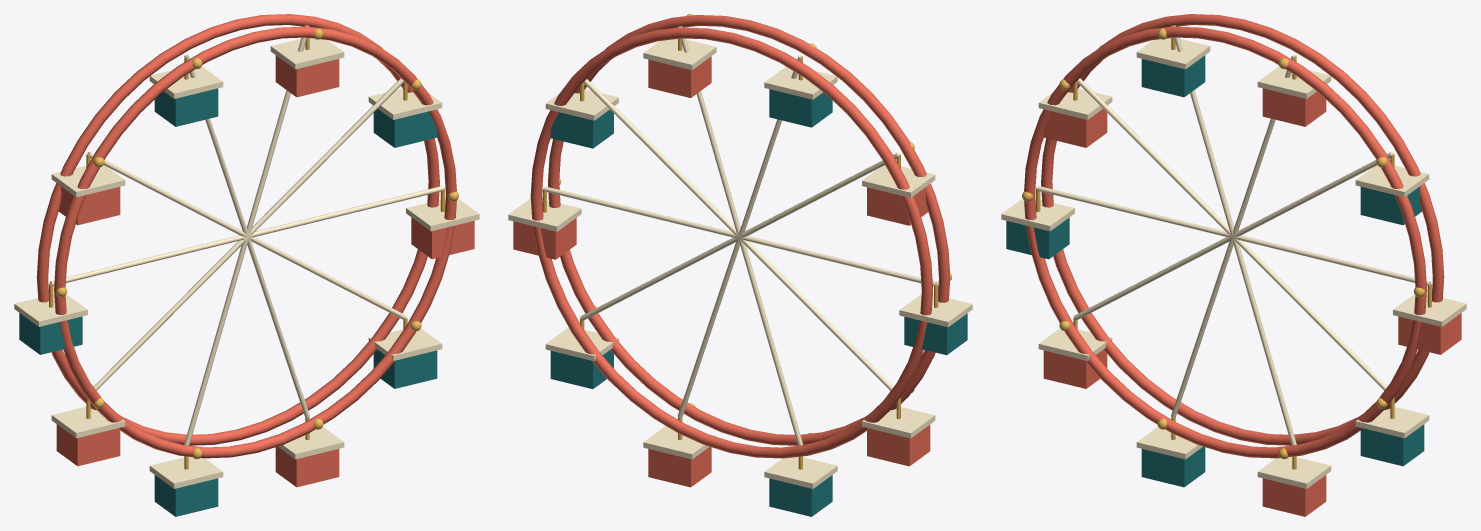
File: ferris_rotor.glb
3 renders of one model, left to right at view 1: azimuth 30°, elevation 25°; view 2: azimuth 150°, elevation 25°; view 3: azimuth 330°, elevation 25°, orthographic.
Visible parts, largest first — view 1: ferris_rotor, Cabin_7, Cabin_2, Cabin_6, Cabin_8, Cabin_1, Cabin_5, Cabin_0, Cabin_3, Cabin_9, Cabin_4; view 2: ferris_rotor, Cabin_7, Cabin_2, Cabin_6, Cabin_8, Cabin_5, Cabin_0, Cabin_1, Cabin_3, Cabin_9, Cabin_4; view 3: ferris_rotor, Cabin_8, Cabin_3, Cabin_9, Cabin_7, Cabin_4, Cabin_0, Cabin_5, Cabin_2, Cabin_6, Cabin_1.
Boxes of the visible parts, x1,y1,x2,y2 form: ferris_rotor: (36, 14, 458, 459); Cabin_7: (149, 456, 223, 516); Cabin_2: (270, 25, 344, 97); Cabin_6: (51, 397, 125, 466); Cabin_8: (270, 417, 344, 487); Cabin_1: (368, 82, 442, 147); Cabin_5: (14, 283, 87, 354); Cabin_0: (406, 187, 479, 259); Cabin_3: (149, 55, 223, 126); Cabin_9: (368, 318, 442, 388); Cabin_4: (51, 153, 125, 225); ferris_rotor: (530, 14, 951, 458); Cabin_7: (764, 456, 837, 516); Cabin_2: (643, 26, 716, 97); Cabin_6: (862, 397, 935, 466); Cabin_8: (643, 417, 716, 487); Cabin_5: (899, 283, 972, 355); Cabin_0: (508, 188, 581, 259); Cabin_1: (545, 83, 618, 148); Cabin_3: (764, 56, 837, 127); Cabin_9: (545, 318, 618, 388); Cabin_4: (862, 154, 935, 225); ferris_rotor: (1022, 14, 1444, 459); Cabin_8: (1257, 456, 1331, 516); Cabin_3: (1136, 25, 1210, 97); Cabin_9: (1355, 397, 1429, 466); Cabin_7: (1136, 417, 1210, 487); Cabin_4: (1038, 82, 1112, 147); Cabin_0: (1393, 283, 1466, 354); Cabin_5: (1001, 187, 1074, 259); Cabin_2: (1257, 55, 1331, 126); Cabin_6: (1038, 318, 1112, 388); Cabin_1: (1355, 153, 1429, 225).
Bounding box in the file's own units: 10.35 × 10.4 × 1.04.
